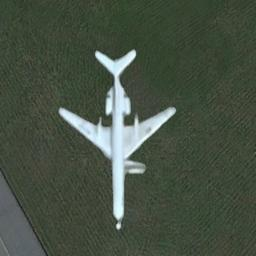Airplane: (57, 47, 176, 230)
